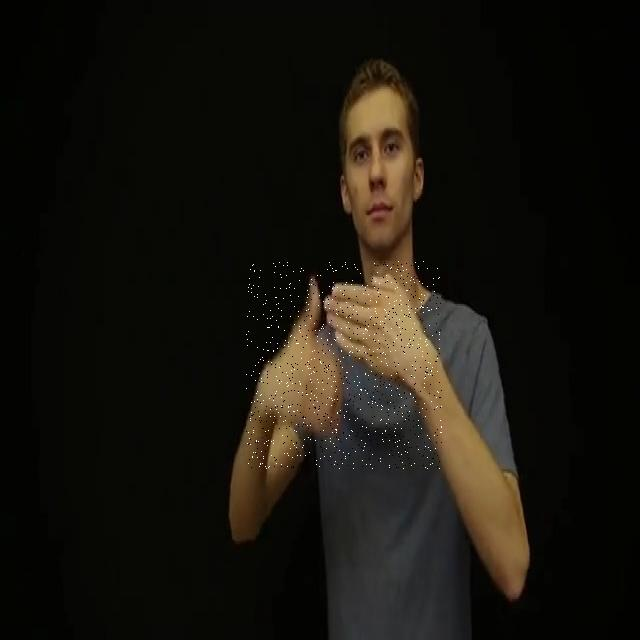bread: (246, 262, 442, 469)
